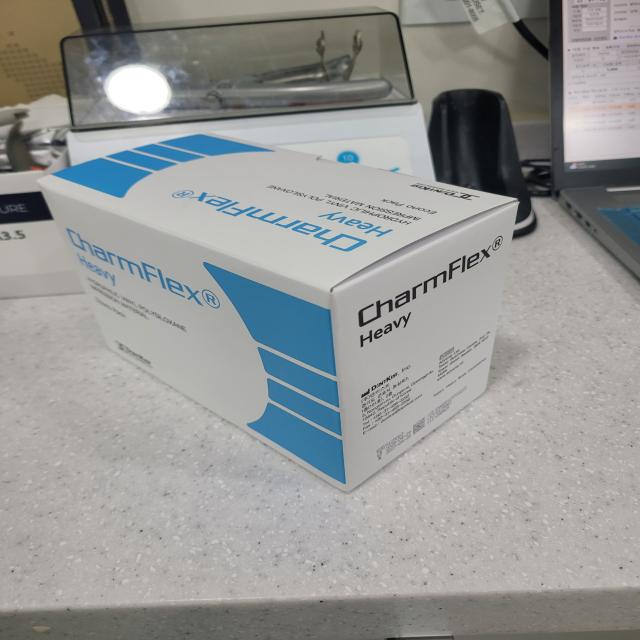impression: (22, 114, 556, 522)
